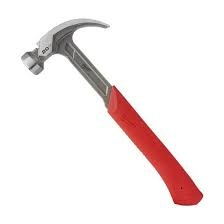hammer: (20, 16, 204, 207)
